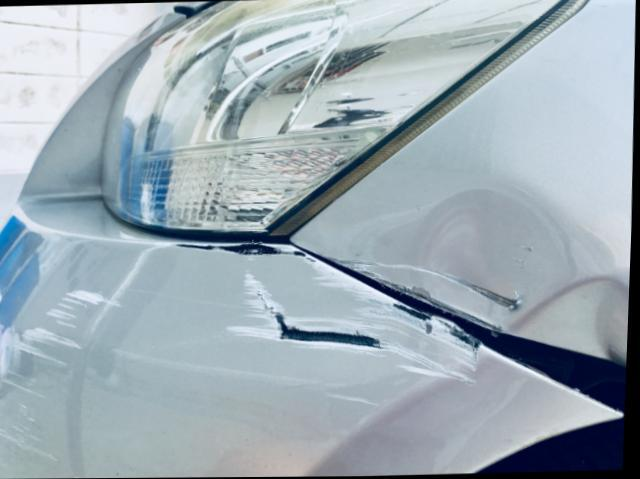dent: (332, 184, 632, 361)
dislocated part: (282, 239, 630, 421)
scratch: (169, 241, 485, 390), (0, 281, 124, 479)
